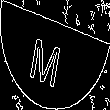M_N: (36, 24, 74, 86)
